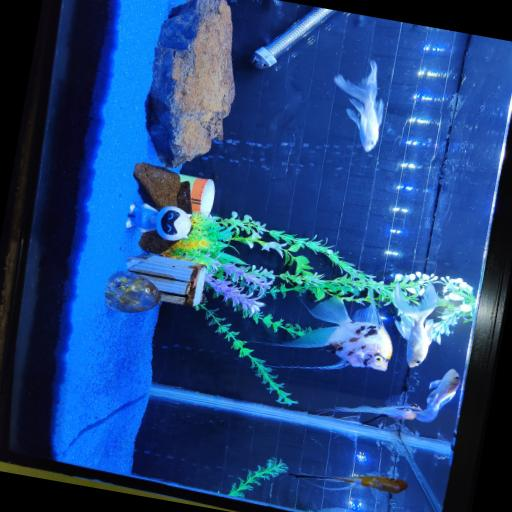Fish: (259, 290, 391, 369), (333, 59, 383, 150), (393, 282, 437, 366), (415, 368, 459, 421), (289, 473, 406, 492), (318, 404, 420, 418), (317, 507, 355, 511)
